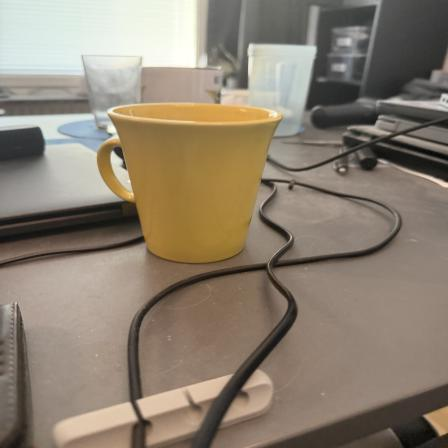yellow_cup: (96, 99, 278, 266)
